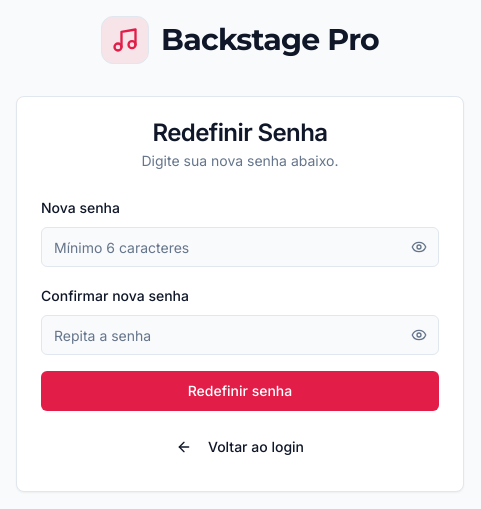
it: ResetPassword activation gate › continues to reset the password for an activated account
Type "novaSenha123" into the password field labelled "Nova senha" at (240, 247), box [41,227,439,267]
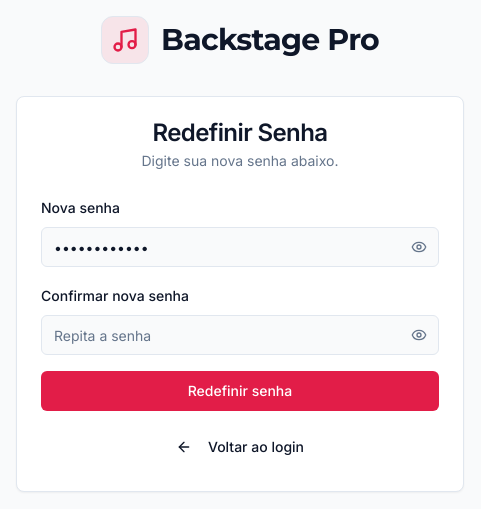
Type "novaSenha123" into the password field labelled "Confirmar nova senha" at (240, 335), box [41,315,439,355]
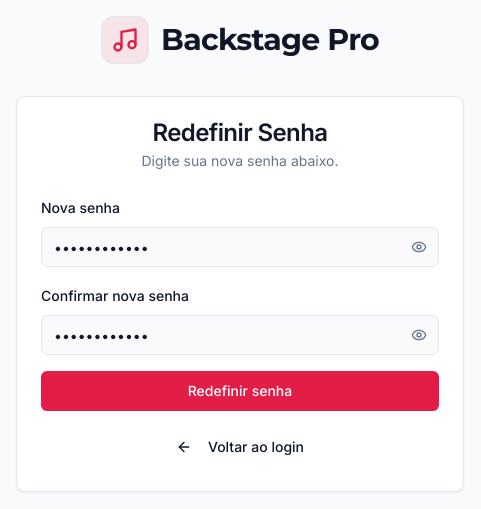
Click the button "Redefinir senha" at (240, 391), box [41,371,439,411]
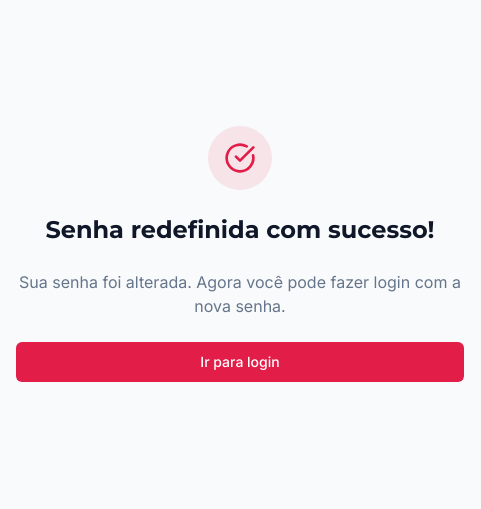
expect the heading "Senha redefinida com sucesso!" is shown: met, box [16,214,464,246]
